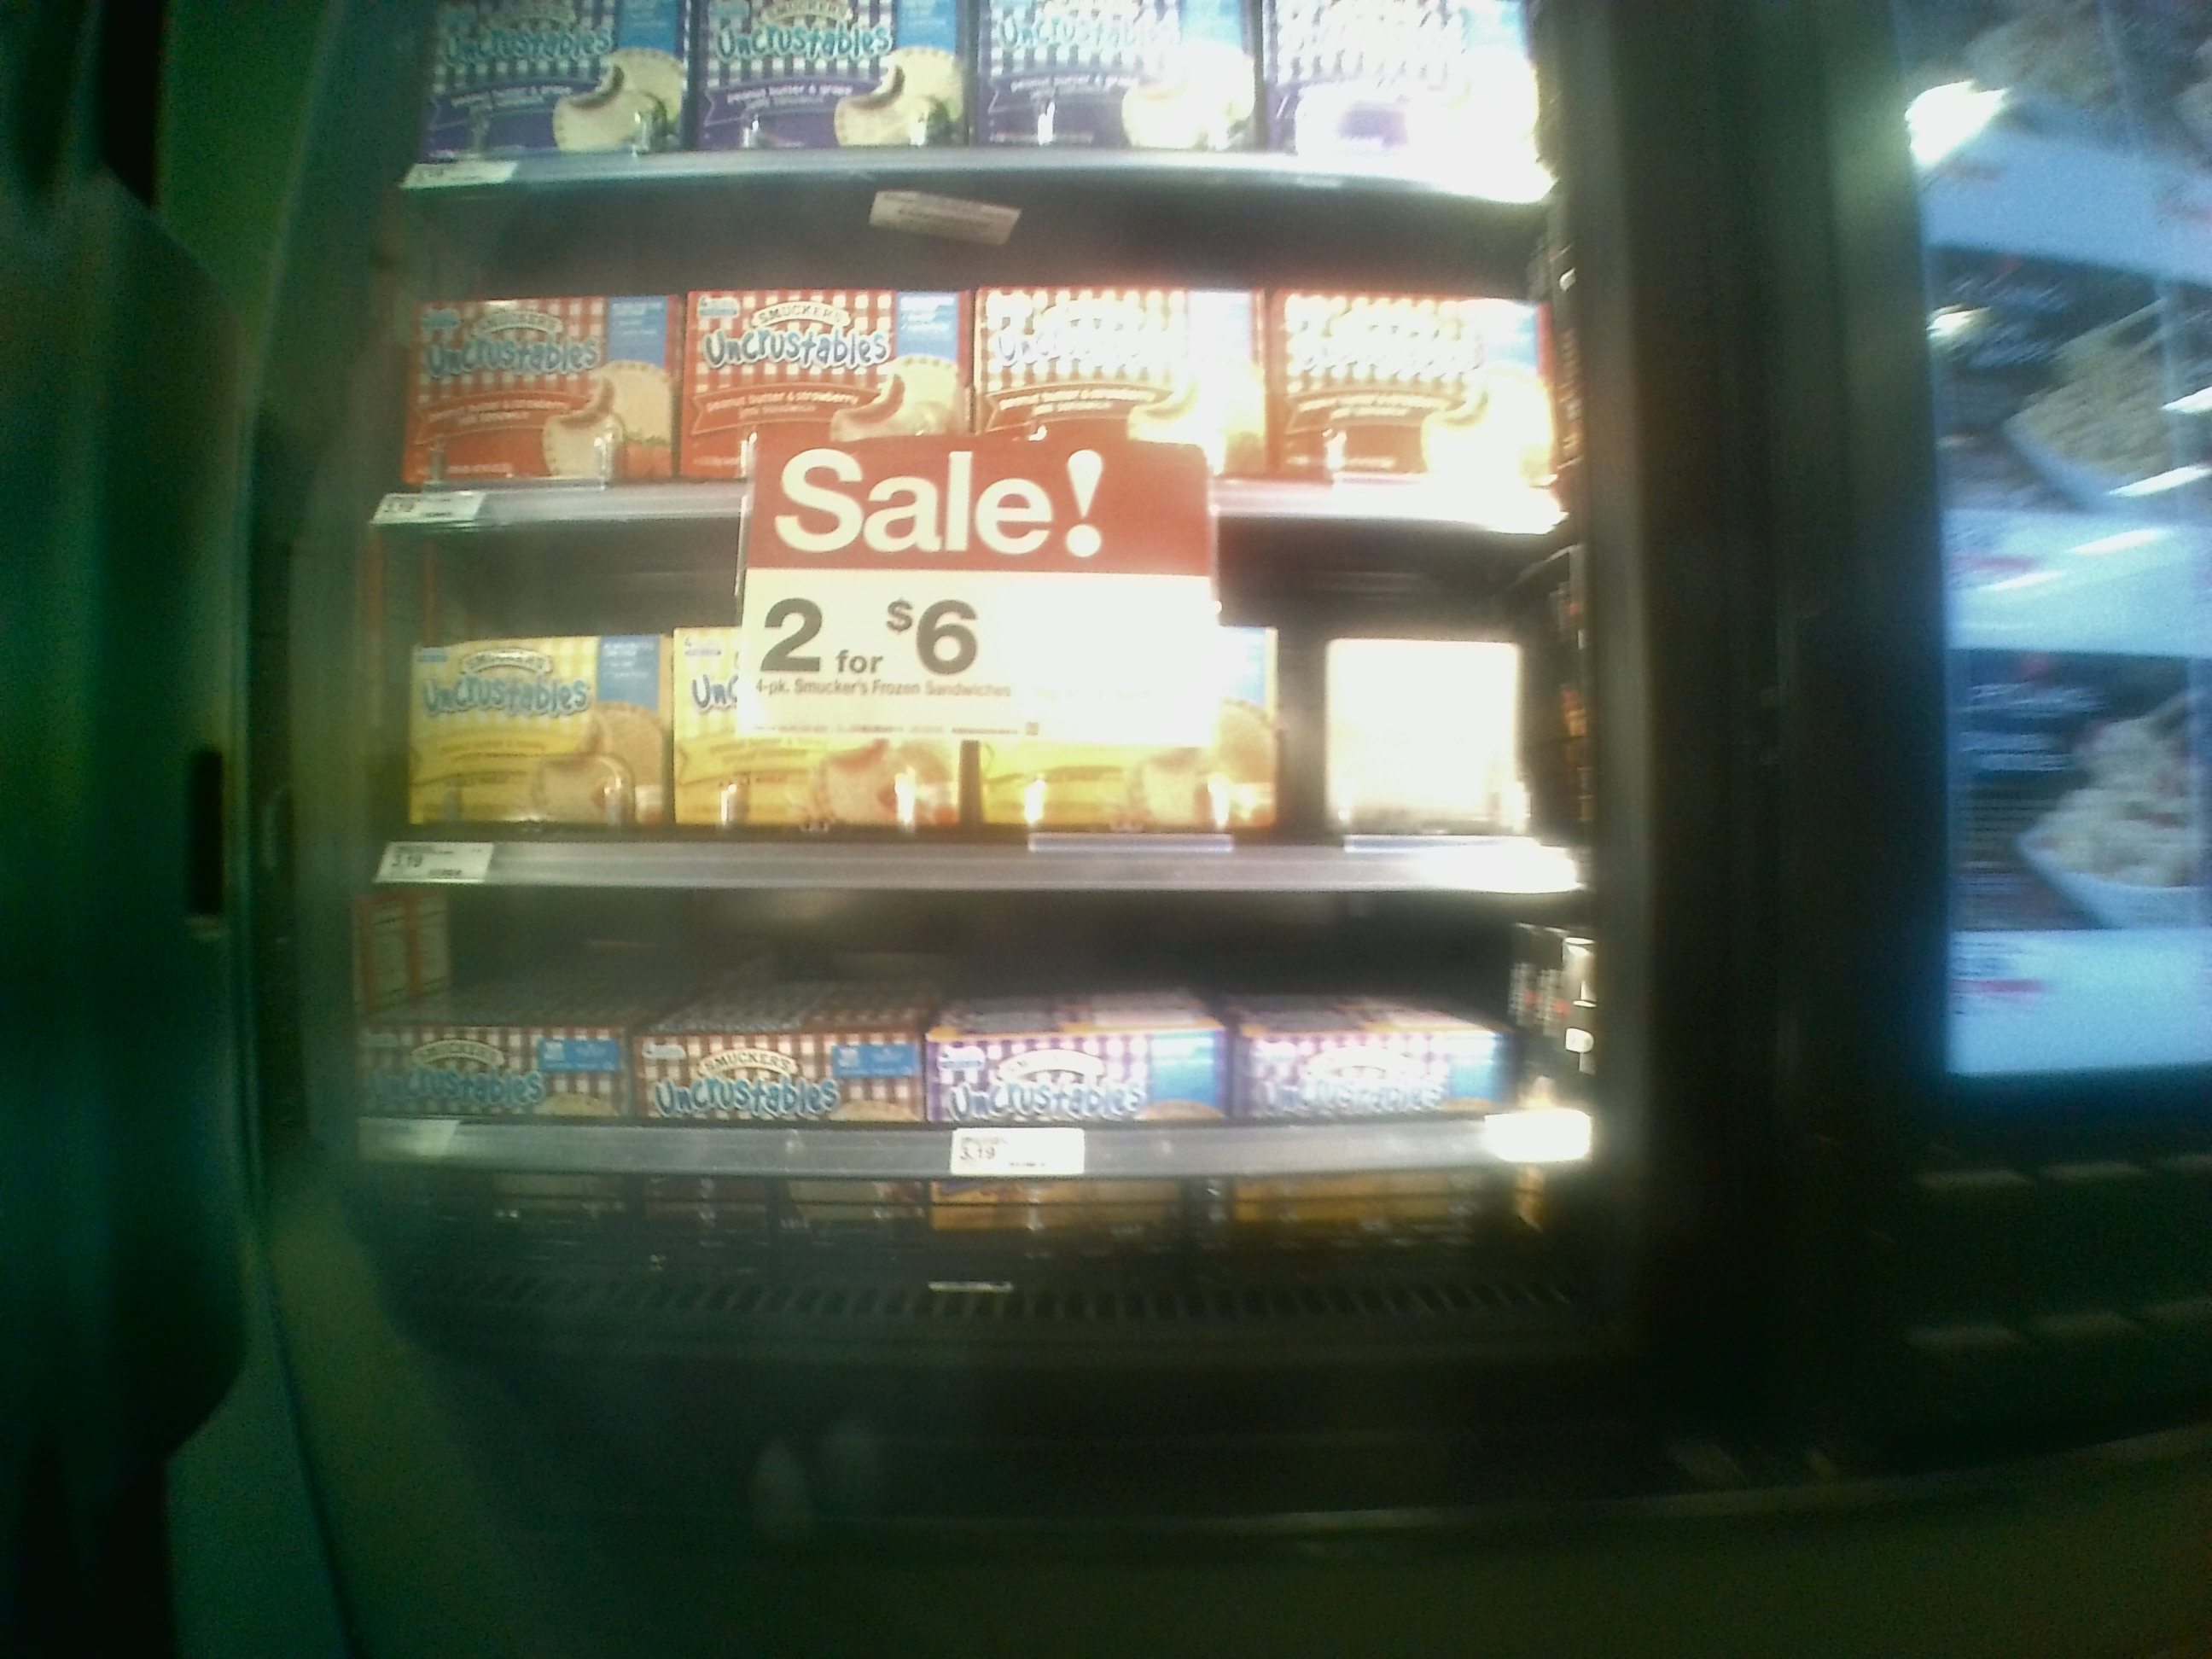shelf: (355, 523, 1597, 889), (364, 192, 1583, 528), (347, 877, 1594, 1166)
